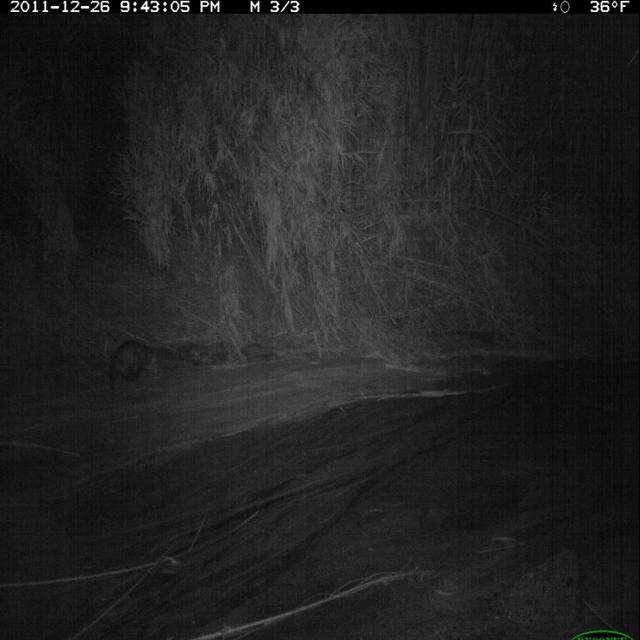opossum: (104, 336, 160, 395)
